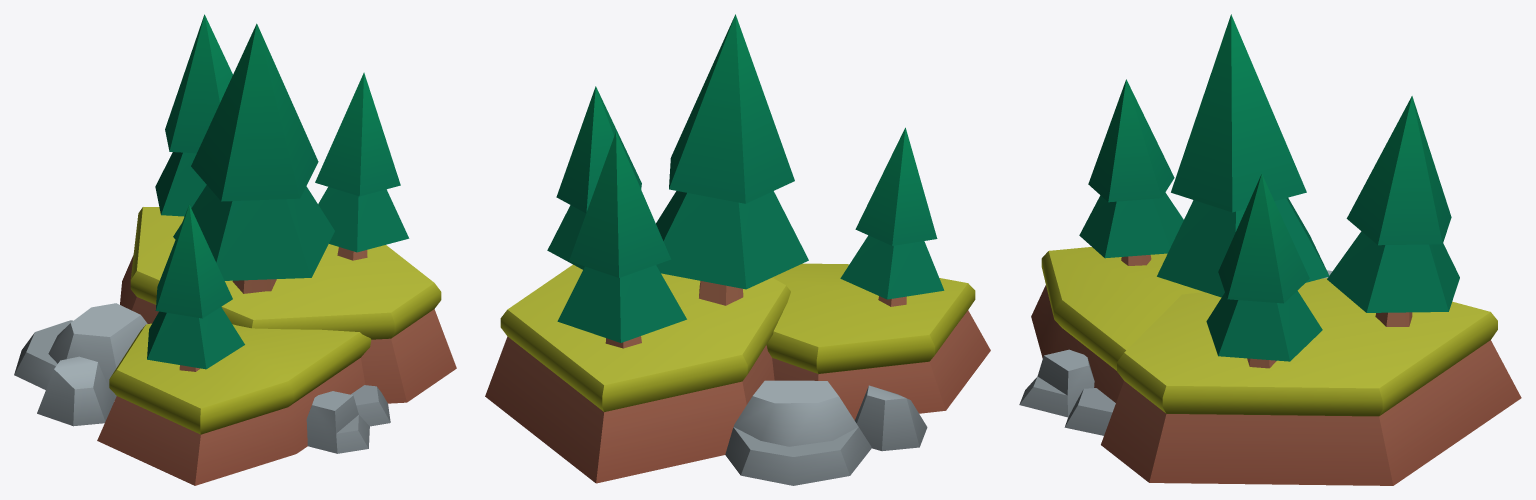
File: hills_B_trees.glb
3 views of the same model, side by side, from view 1: azimuth 30°, elevation 25°; view 2: azimuth 150°, elevation 25°; view 3: azimuth 270°, elevation 25° (orthographic). The views are drawn at different scales.
Visible parts, largest first — view 1: hills_B_trees; view 2: hills_B_trees; view 3: hills_B_trees.
Part boxes in pixels (<box>): hills_B_trees: <box>14,14,456,485</box>; hills_B_trees: <box>485,14,990,485</box>; hills_B_trees: <box>1019,14,1521,485</box>.
Size of the model in its own units: 1.47 by 1.37 by 1.62.
Materials: 1 (1 with a texture image).
